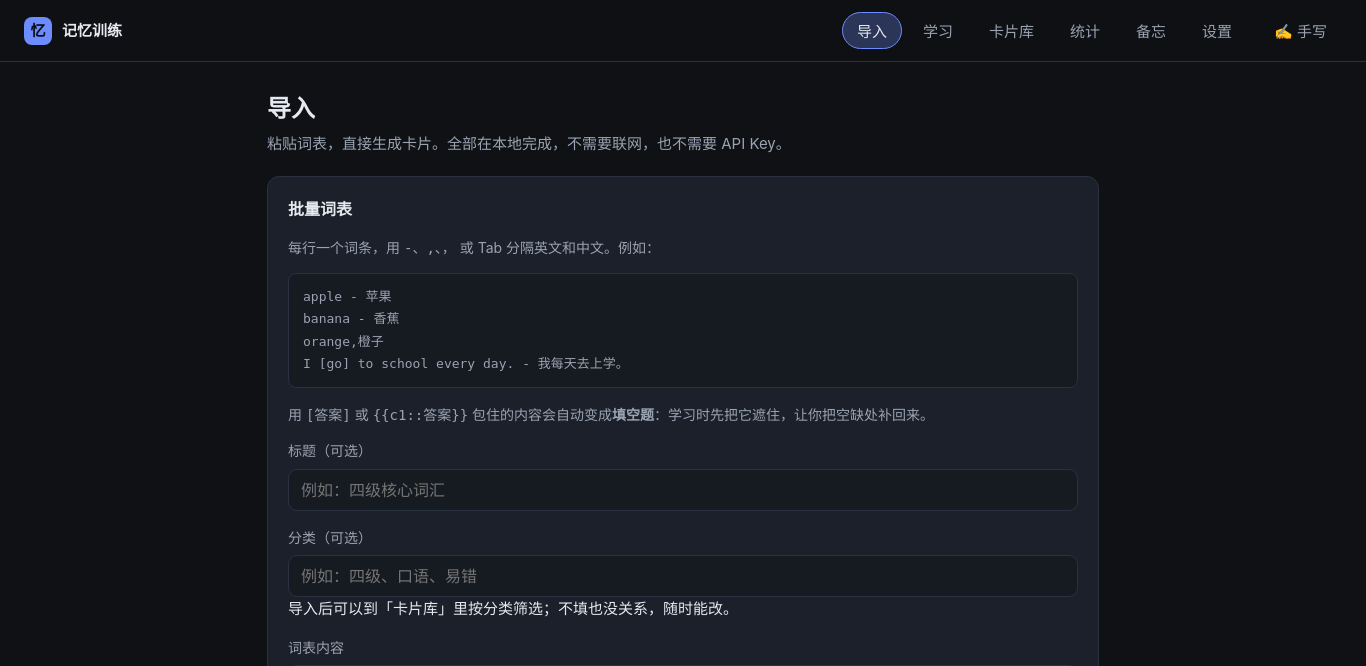
Test: 统计页 › 空数据时也能正常显示
Expected: the heading "导入" is shown, [267, 94, 315, 123]
Click the button "统计".
click(1085, 30)  # box [1055, 12, 1115, 49]
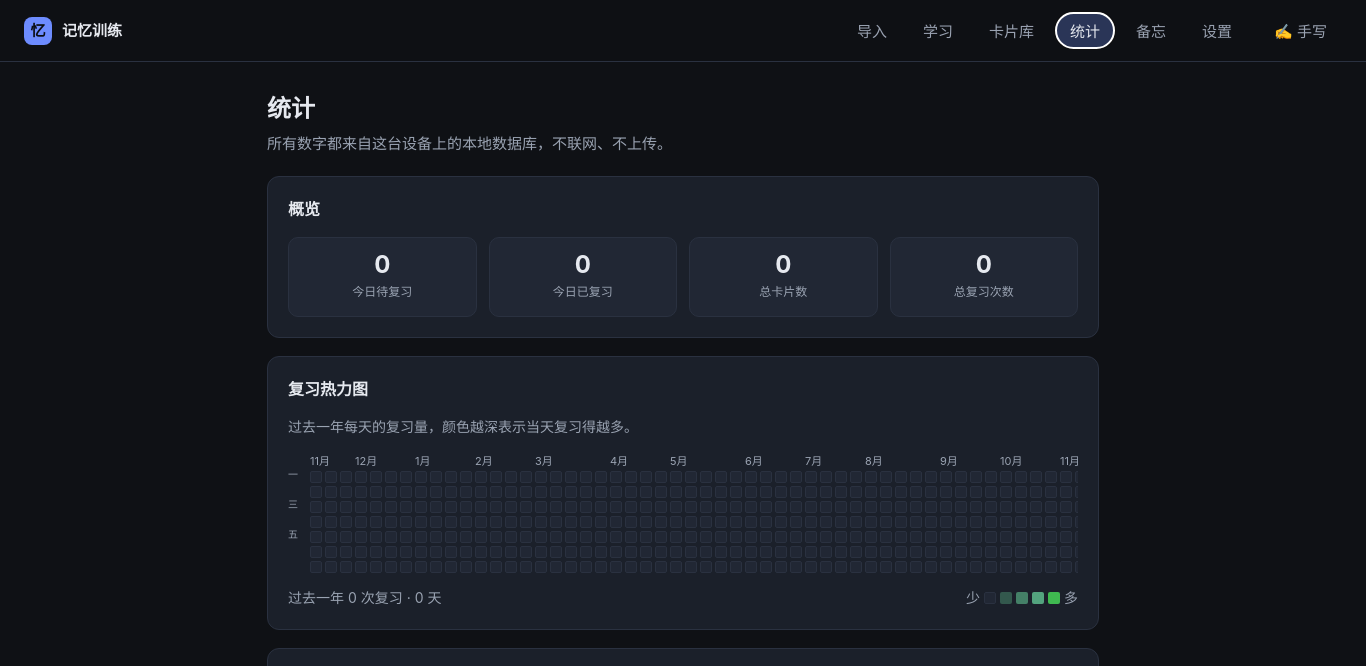
Expected: the heading "统计" is shown, [267, 94, 315, 123]
Expected: the number of elements with class "forecast-col" is 7
